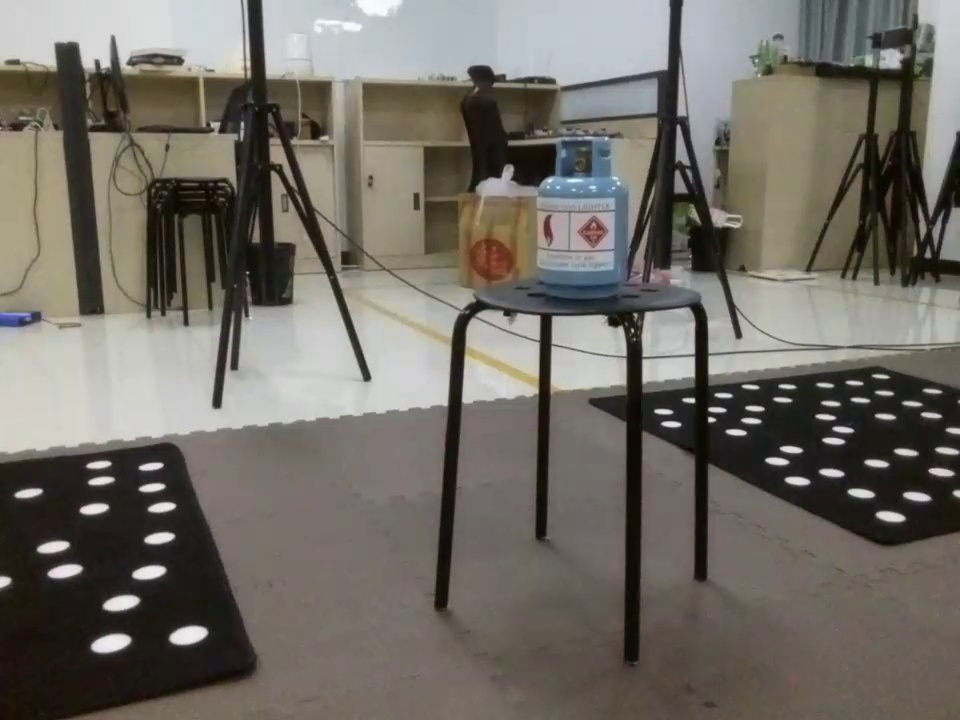gas tank: (532, 134, 632, 300)
